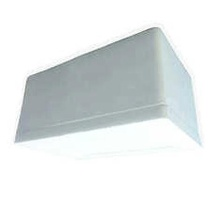foam_box: (7, 20, 205, 167)
